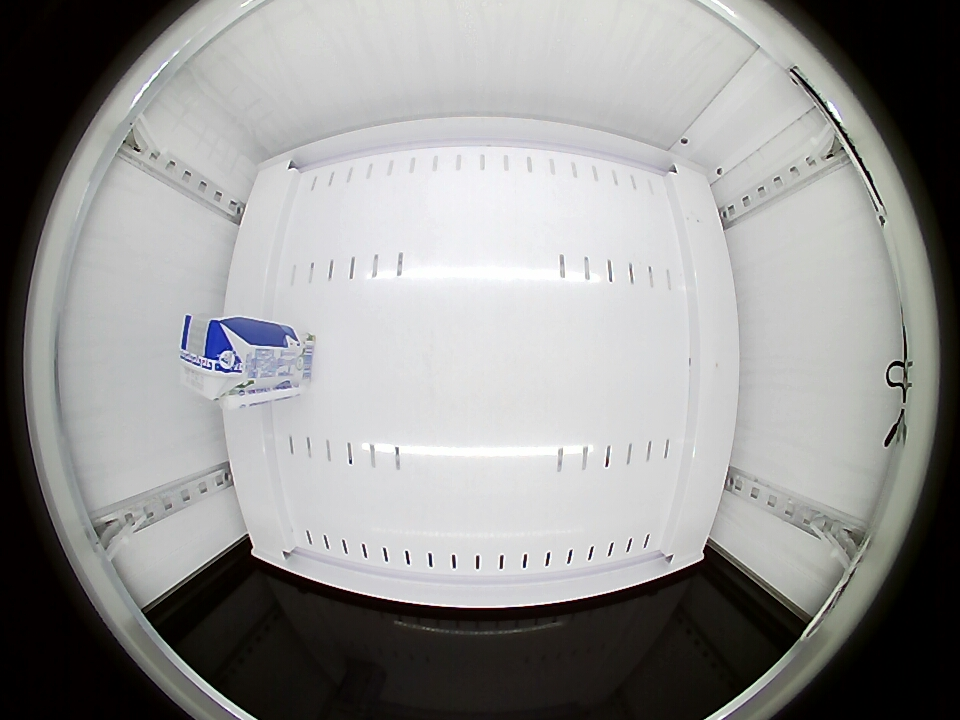anmuxi: (180, 317, 258, 405)
